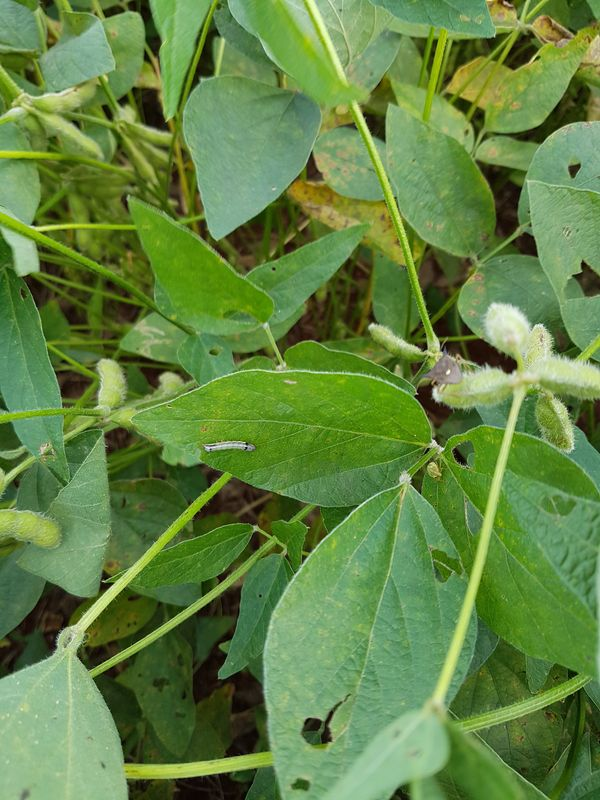Euschistus_heros_adulto: (413, 339, 475, 401)
Euschistus_heros_ninfa: (420, 454, 448, 484)
Spodoptera_albula: (198, 430, 260, 465)
